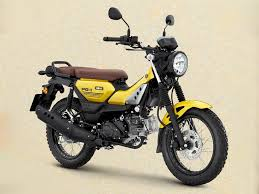motorcycle: (26, 6, 230, 189)
